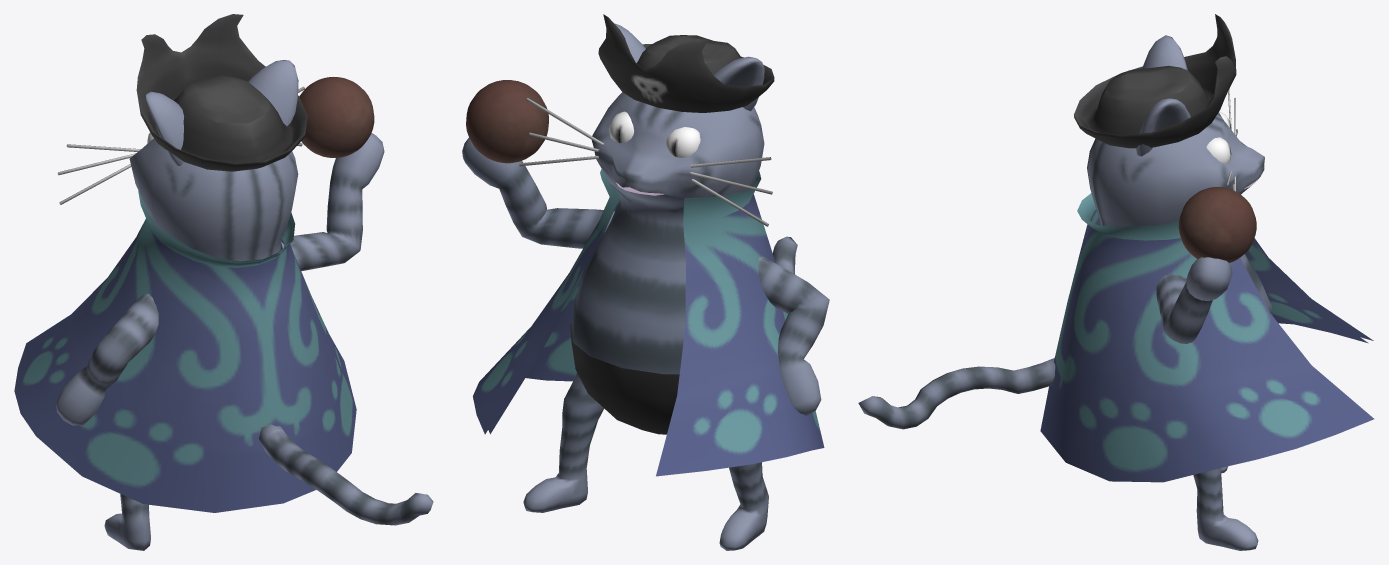
Rendered from neko_idle_b_07.fbx.
The picture shows the model from 3 angles, left to right: view 1: azimuth 30°, elevation 25°; view 2: azimuth 150°, elevation 25°; view 3: azimuth 270°, elevation 25°; orthographic projection. The views are drawn at different scales.
Parts seen in each view (by area): view 1: I_b_07; view 2: I_b_07; view 3: I_b_07.
Boxes of the visible parts, left/top/right/bottom form: I_b_07: left=14, top=14, right=433, bottom=550; I_b_07: left=462, top=14, right=829, bottom=550; I_b_07: left=858, top=14, right=1374, bottom=550.
Size of the model in its own units: 1.41 by 1.94 by 1.93.
Materials: 1 (1 with a texture image).
